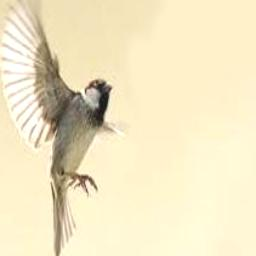Sparrow: (0, 0, 124, 256)
